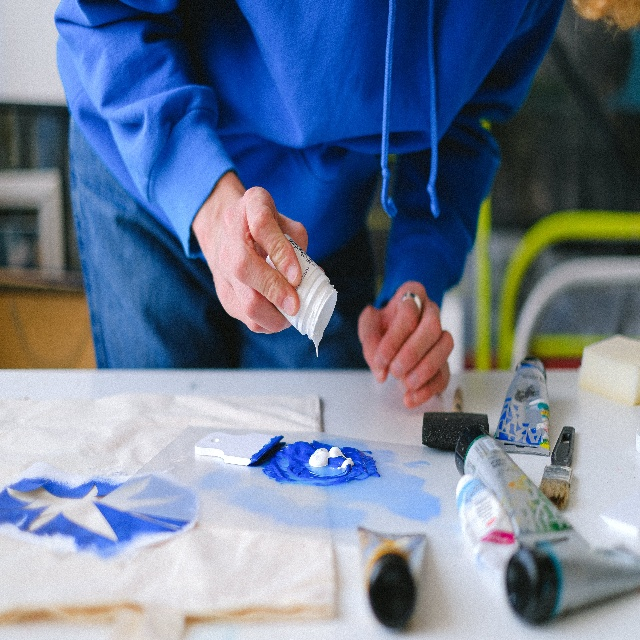Sin_guantes: (211, 177, 327, 339), (357, 277, 456, 412)
